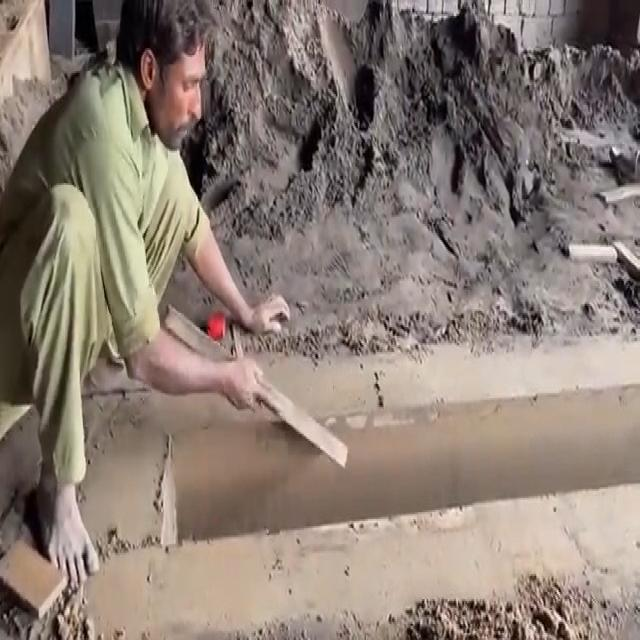dress: (1, 56, 210, 491)
